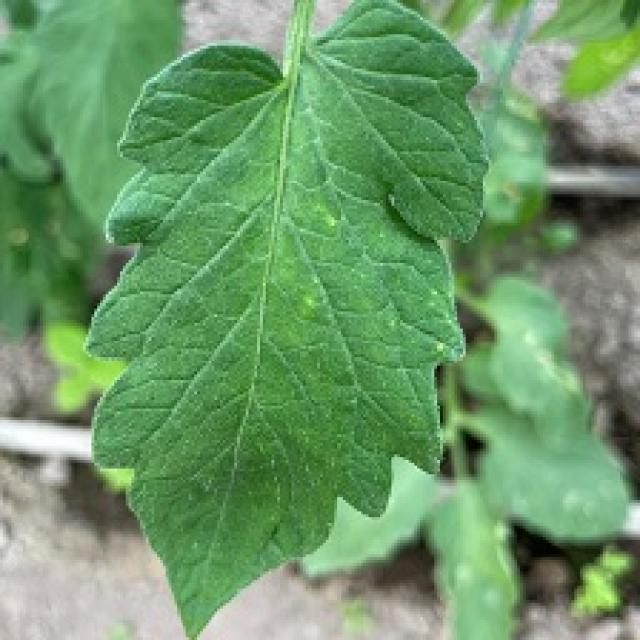Healthy: (42, 0, 514, 640)
